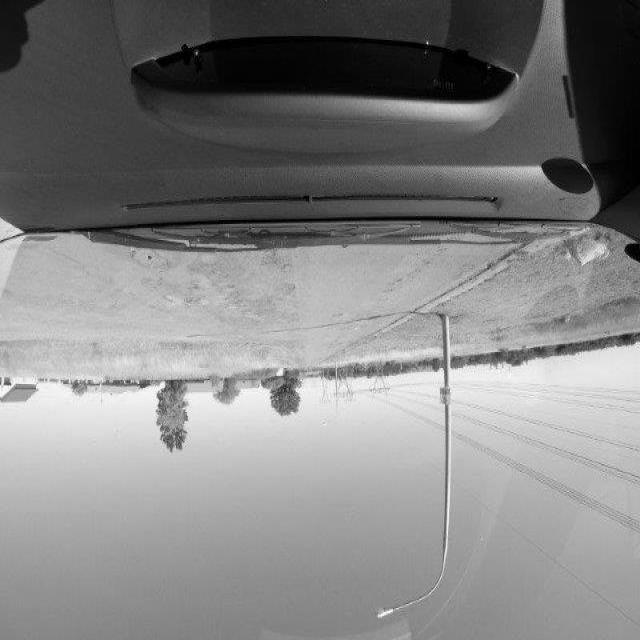lubang: (133, 240, 172, 274), (260, 281, 298, 307), (246, 247, 284, 269), (168, 292, 199, 316)
